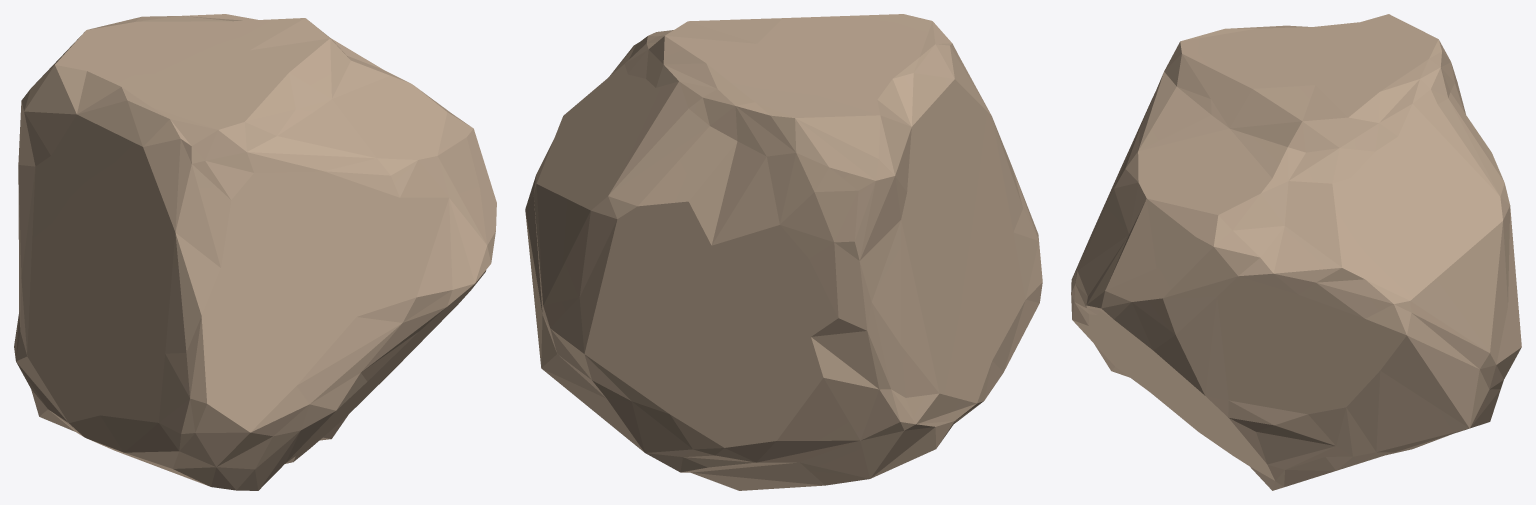
Rendered from rock_spire_bare_mobile.glb.
The picture shows the model from 3 angles, left to right: view 1: azimuth 30°, elevation 25°; view 2: azimuth 150°, elevation 25°; view 3: azimuth 270°, elevation 25°; orthographic projection. The views are drawn at different scales.
Visible parts, largest first — view 1: SM_Env_Rock_04; view 2: SM_Env_Rock_04; view 3: SM_Env_Rock_04.
Part boxes in pixels (box(x1,y1,x2,y2)): SM_Env_Rock_04: box(14, 14, 496, 490); SM_Env_Rock_04: box(525, 14, 1042, 490); SM_Env_Rock_04: box(1071, 14, 1521, 490).
Size of the model in its own units: 1.75 by 1.74 by 1.85.
1 material, 1 textured.
